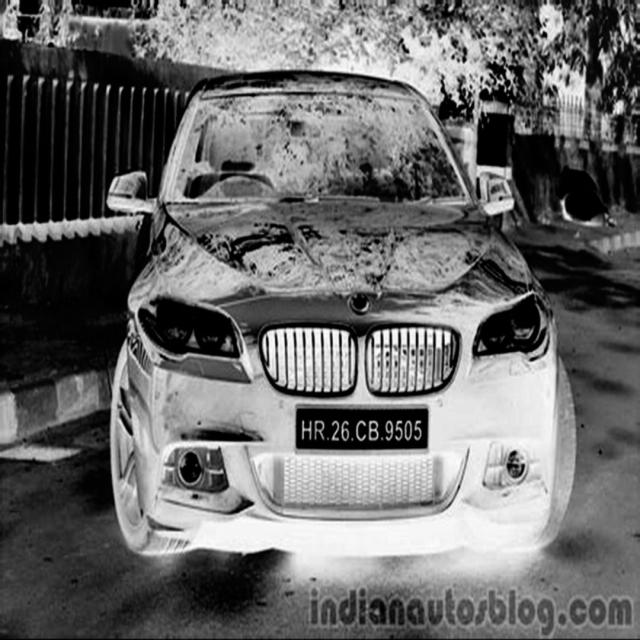Non_registered: (296, 408, 431, 448)
